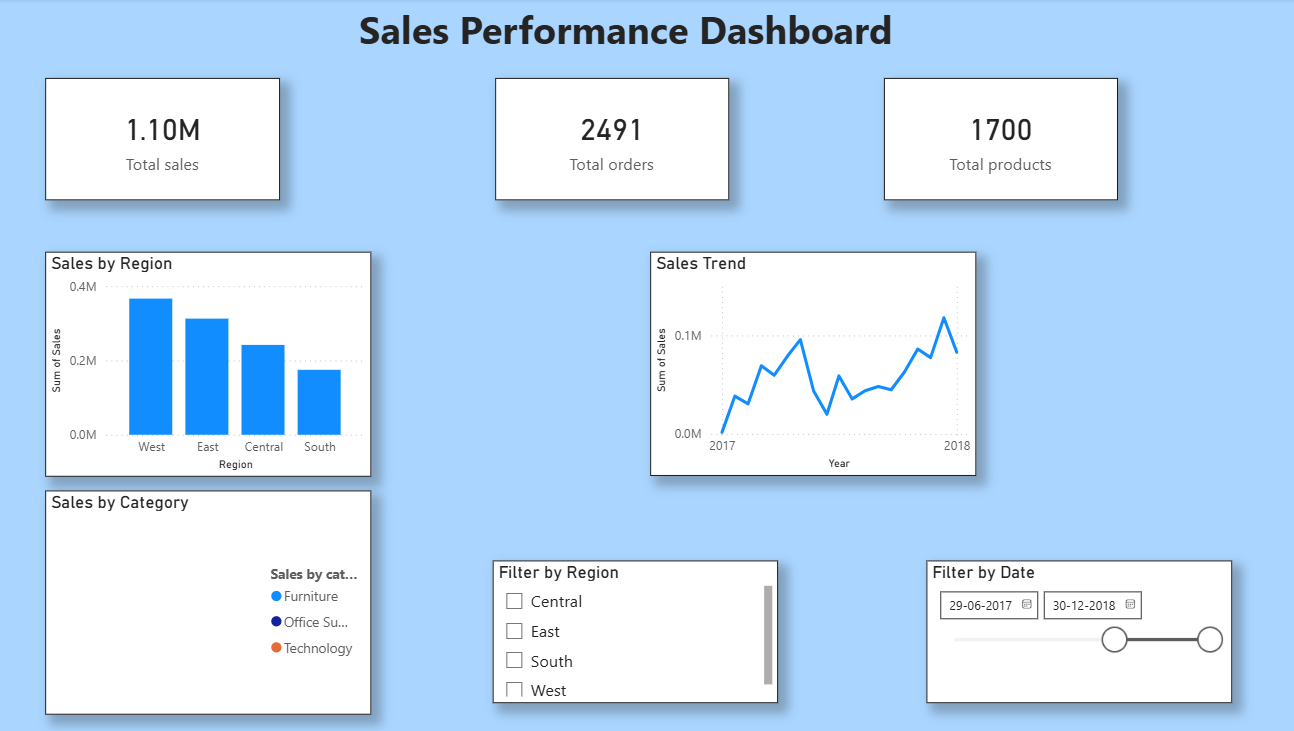

The page's visual inventory and layout, read from the dashboard file:
{"tool":"powerbi","page":{"name":"Page 1","canvas":[1280,720],"ordinal":0},"visuals":[{"type":"card","fields":{"Values":["Sum(train.Sales)"]},"box":[45.4,78.5,230.7,120.2],"z":0},{"type":"card","fields":{"Values":["Count(train.Order ID)"]},"box":[487.1,78.5,229.4,120.2],"z":1000},{"type":"card","fields":{"Values":["Count(train.Product ID)"]},"box":[868.7,78.5,229.4,120.2],"z":2000},{"type":"clusteredColumnChart","title":"Sales by Region","fields":{"Category":["train.Region"],"Y":["Sum(train.Sales)"]},"box":[45.4,249.1,320.2,220.9],"z":3000},{"type":"lineChart","title":"Sales Trend","fields":{"Category":["train.Order Date.Variation.Date Hierarchy.Year","train.Order Date.Variation.Date Hierarchy.Quarter","train.Order Date.Variation.Date Hierarchy.Month","train.Order Date.Variation.Date Hierarchy.Day"],"Y":["Sum(train.Sales)"]},"box":[639.3,249.1,320.2,220],"z":3001},{"type":"pieChart","title":"Sales by Category","fields":{"Category":["train.Category"]},"box":[45.4,483.4,320.2,219.6],"z":3002},{"type":"slicer","title":"Filter by Region","fields":{"Values":["train.Region"]},"box":[484.7,552.2,280,140],"z":3003},{"type":"slicer","title":"Filter by Date","fields":{"Values":["train.Order Date"]},"box":[910.4,552.2,300,140],"z":3004},{"type":"textbox","box":[348.5,0,611,78.5],"z":3005}]}

Visuals, with their boxes in screenshot pixels (x1, y1, x2, y2), scaled from the page's 1280x720 canvas onto the 1294x731 screenshot:
card - Sum(train.Sales): x1=46, y1=80, x2=279, y2=202
card - Count(train.Order ID): x1=492, y1=80, x2=724, y2=202
card - Count(train.Product ID): x1=878, y1=80, x2=1110, y2=202
"Sales by Region" clusteredColumnChart: x1=46, y1=253, x2=370, y2=477
"Sales Trend" lineChart: x1=646, y1=253, x2=970, y2=476
"Sales by Category" pieChart: x1=46, y1=491, x2=370, y2=714
"Filter by Region" slicer: x1=490, y1=561, x2=773, y2=703
"Filter by Date" slicer: x1=920, y1=561, x2=1224, y2=703
textbox: x1=352, y1=0, x2=970, y2=80
